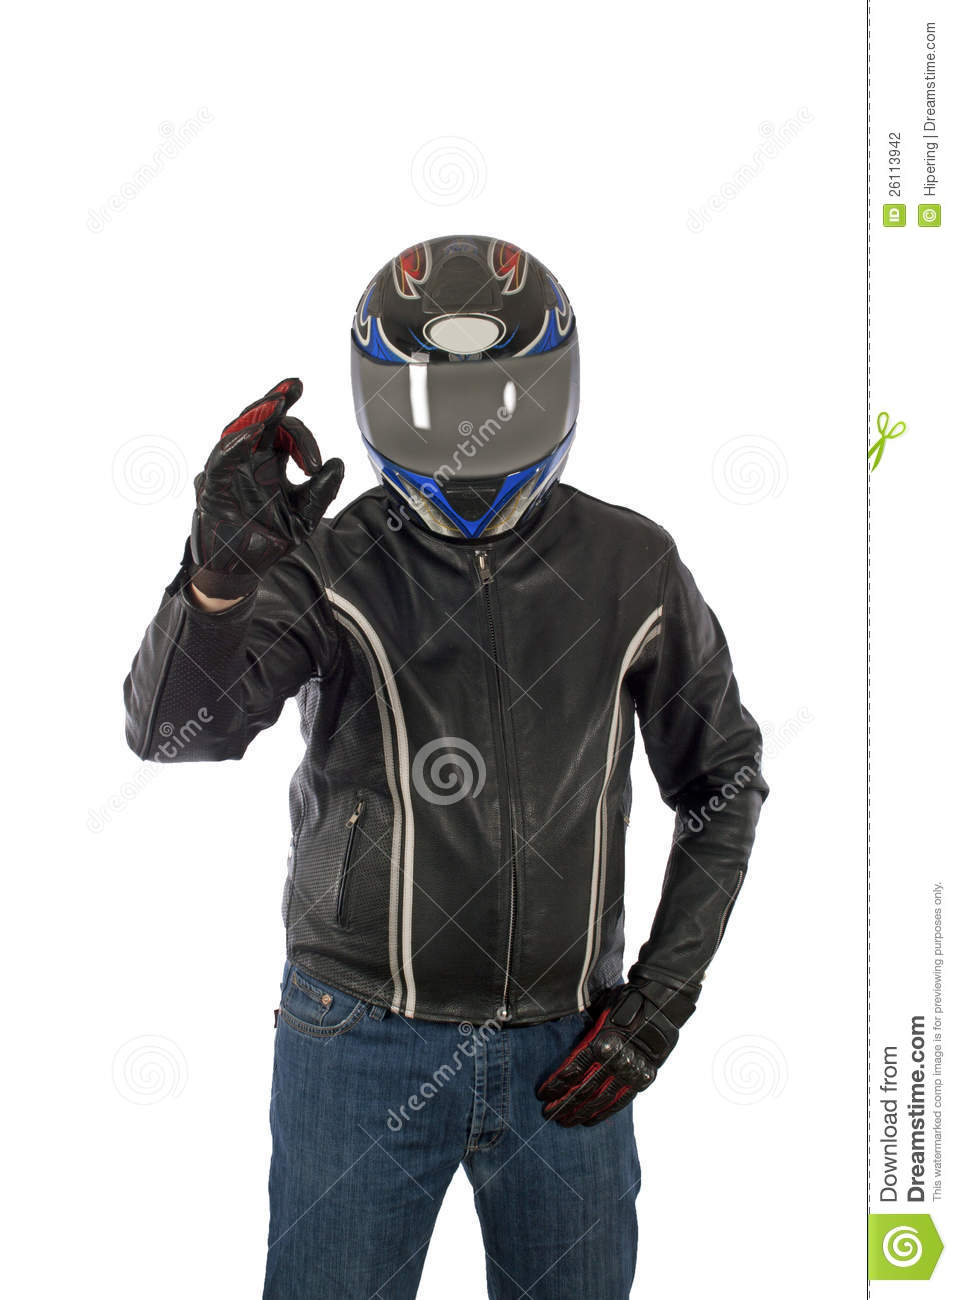helmet: (334, 243, 612, 553)
